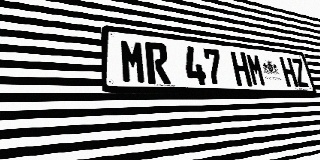4: (183, 46, 207, 85)
7: (202, 48, 225, 86)
H: (230, 51, 252, 86), (279, 57, 299, 87)
M: (119, 39, 147, 84), (245, 53, 267, 86)
R: (144, 42, 171, 85)
Z: (290, 58, 310, 87)
